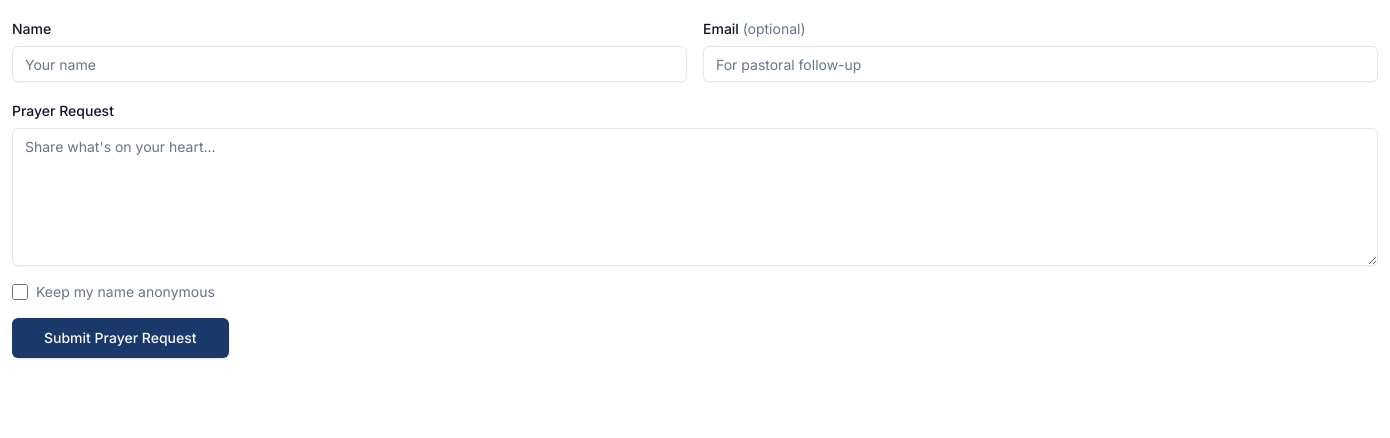
Scenario: PrayerRequestForm › error state › shows error alert when fetch returns ok: false
Step 1. Type "John" into the field labelled "Name" → [350, 64], box top-left (12, 46), bottom-right (687, 82)
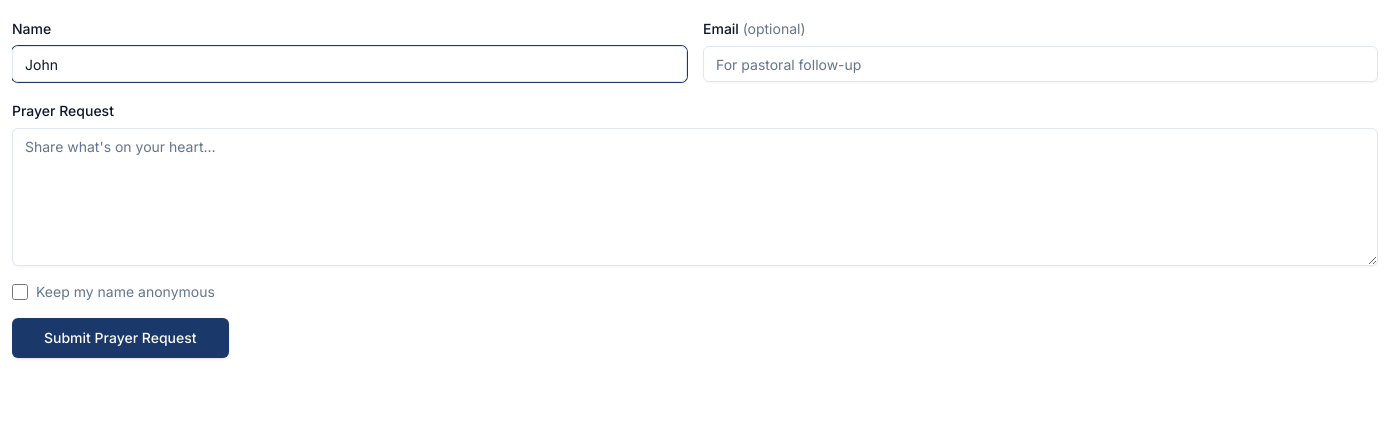
Step 2. Type "Please pray." into the text box labelled "Prayer Request" → [695, 197], box top-left (12, 128), bottom-right (1378, 266)
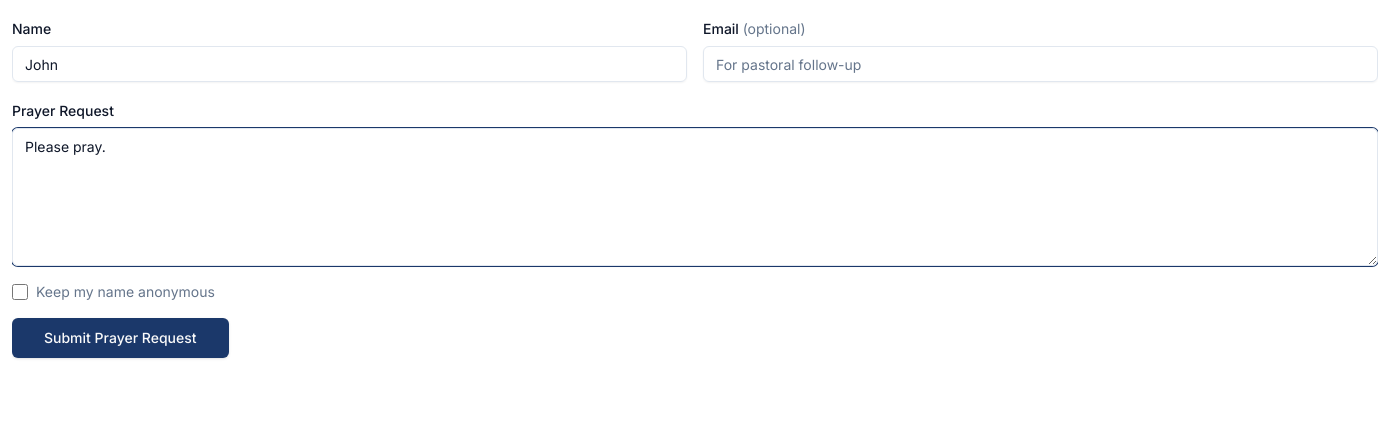
Step 3. Click the button "Submit Prayer Request" → [120, 338], box top-left (12, 318), bottom-right (228, 358)
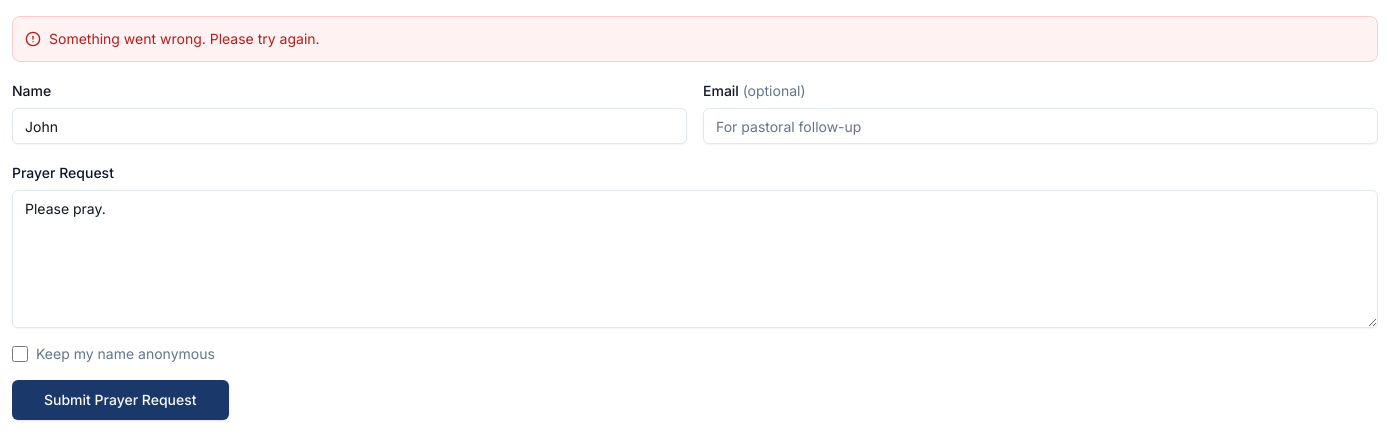
Result: the text "Something went wrong. Please try again." is shown at top-left (12, 16), bottom-right (1378, 62)
